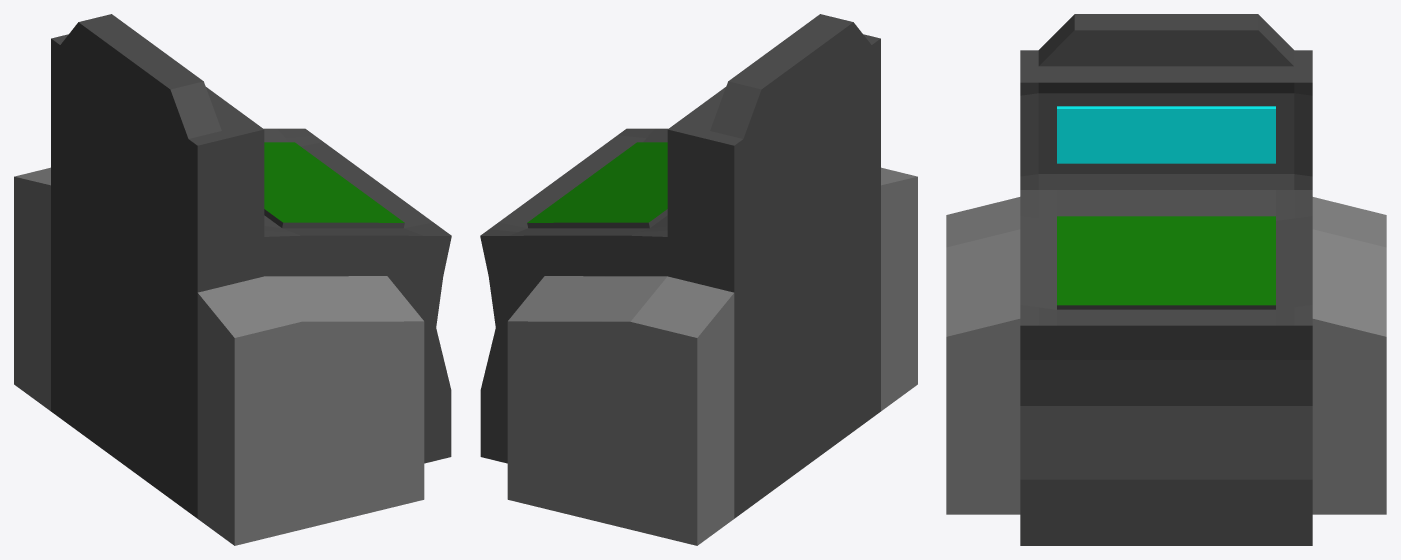
The model's file is computer.fbx.
The picture shows the model from 3 angles, left to right: view 1: azimuth 30°, elevation 25°; view 2: azimuth 150°, elevation 25°; view 3: azimuth 270°, elevation 25°; orthographic projection.
Parts seen in each view (by area): view 1: Cube; view 2: Cube; view 3: Cube.
Part boxes in pixels (left/top/right/bottom): Cube: left=14, top=14, right=451, bottom=545; Cube: left=480, top=14, right=917, bottom=545; Cube: left=946, top=14, right=1386, bottom=545.
Bounding box in the file's own units: 200 × 308 × 301.
